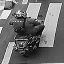motor: (11, 10, 40, 55)
